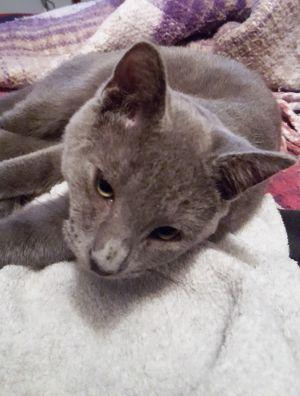rblue: (47, 31, 300, 292)
